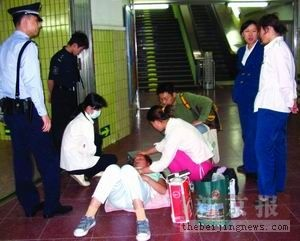falling: (70, 147, 168, 241)
